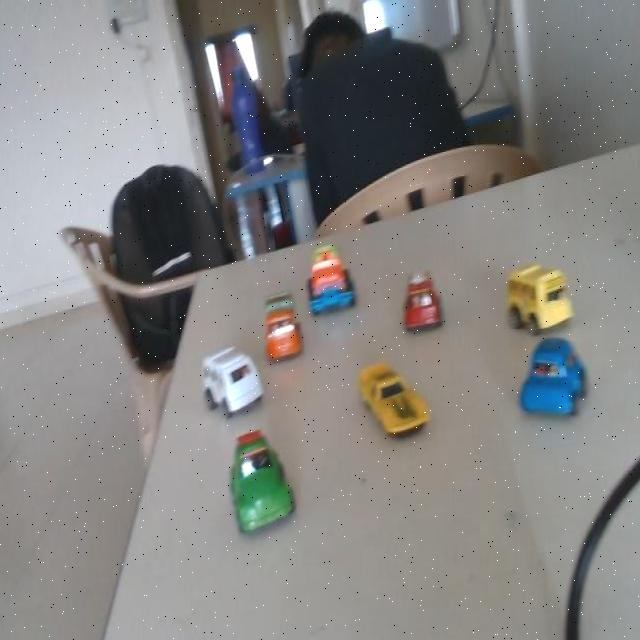car: (169, 401, 328, 592), (176, 316, 279, 444), (332, 353, 444, 455), (514, 333, 587, 427), (493, 263, 567, 347), (251, 274, 310, 379), (303, 232, 368, 316), (389, 262, 448, 345)
